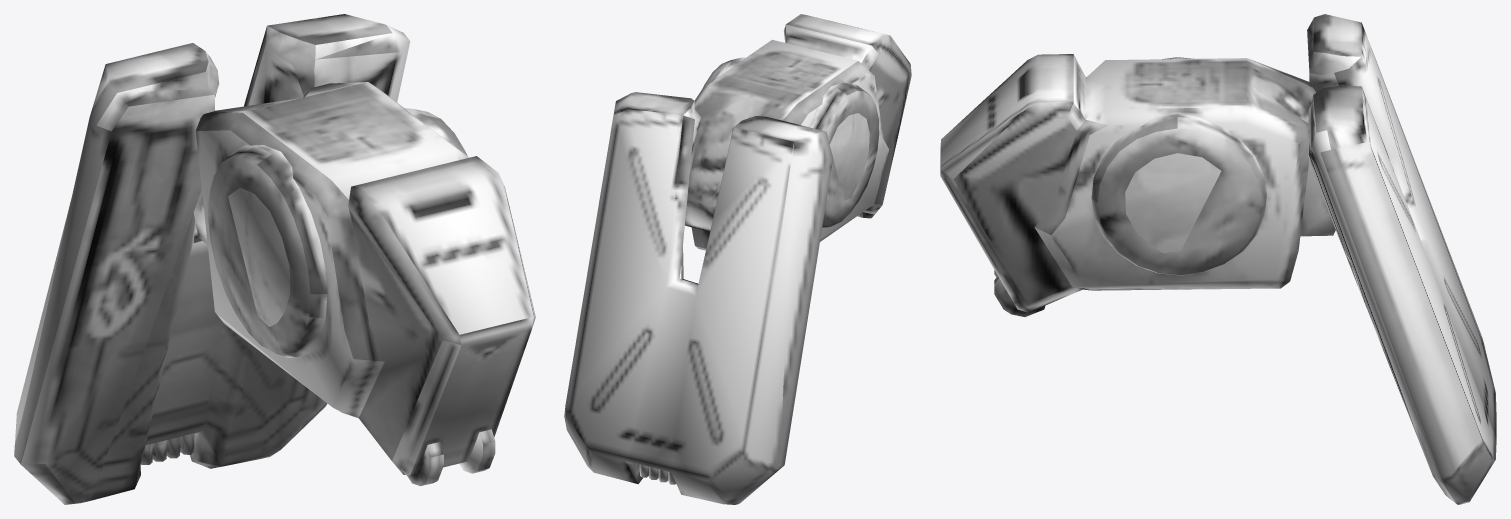
Rendered from pelvis.glb.
3 views of the same model, side by side, from view 1: azimuth 30°, elevation 25°; view 2: azimuth 150°, elevation 25°; view 3: azimuth 270°, elevation 25° (orthographic). The views are drawn at different scales.
Visible parts, largest first — view 1: pelvis; view 2: pelvis; view 3: pelvis.
Boxes of the visible parts, bbox=[...] form: pelvis: bbox=[14, 14, 535, 504]; pelvis: bbox=[564, 14, 911, 504]; pelvis: bbox=[940, 14, 1496, 504].
Bounding box in the file's own units: 0.6368 × 0.9552 × 1.22.
3 materials, 3 textured.
